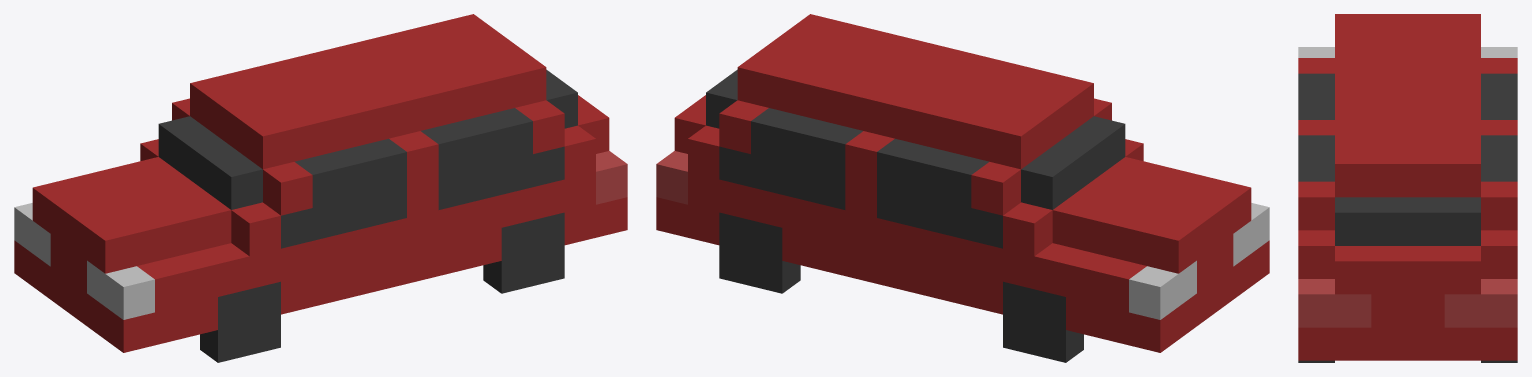
The model's file is car-v3-red.gltf.
3 views of the same model, side by side, from view 1: azimuth 30°, elevation 25°; view 2: azimuth 150°, elevation 25°; view 3: azimuth 270°, elevation 25° (orthographic).
Visible parts, largest first — view 1: model, wheels; view 2: model, wheels; view 3: model, wheels.
Part boxes in pixels (<box>): model: <box>14,14,627,352</box>; wheels: <box>200,212,564,362</box>; model: <box>656,14,1269,352</box>; wheels: <box>719,212,1083,362</box>; model: <box>1298,14,1517,360</box>; wheels: <box>1298,360,1517,362</box>.
Bounding box in the file's own units: 1.6 × 0.6 × 0.6.
Materials: 2 (2 with a texture image).
